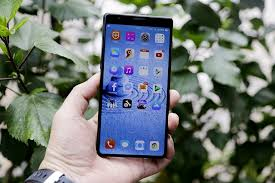bphone: (97, 9, 168, 157)
